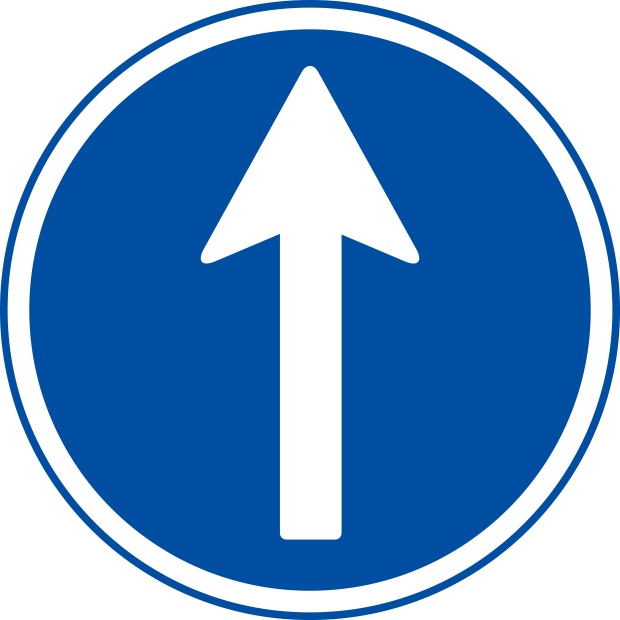Direction_sign: (7, 4, 614, 618)
